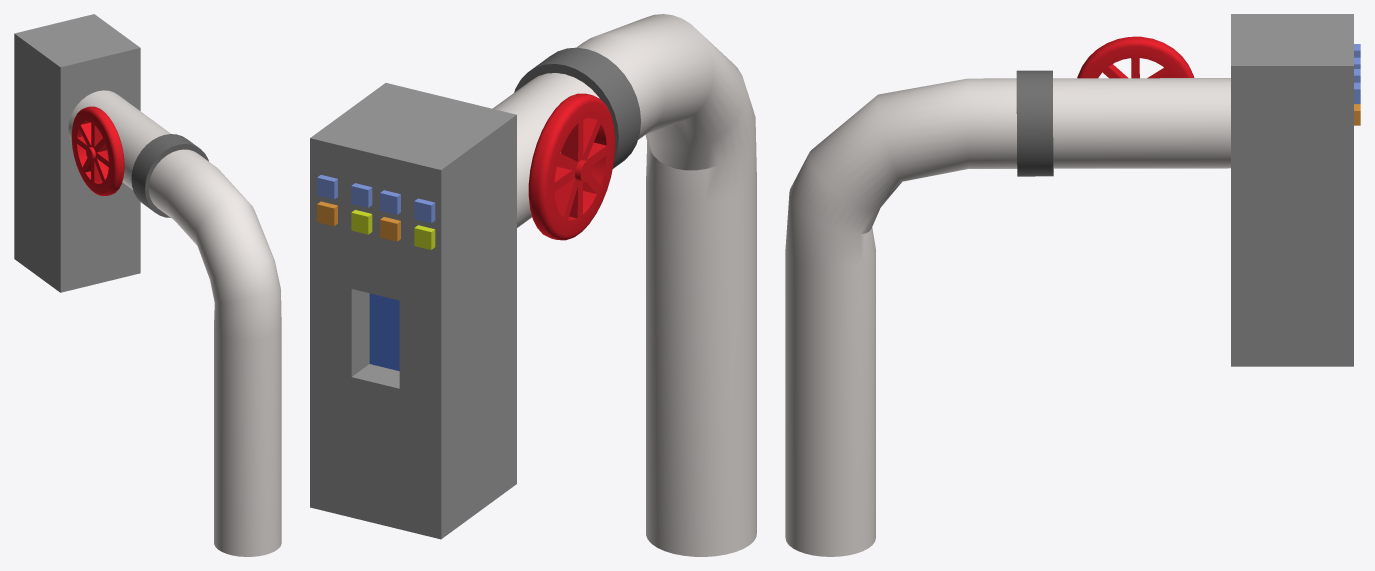
File: water_pump.fbx
3 views of the same model, side by side, from view 1: azimuth 30°, elevation 25°; view 2: azimuth 150°, elevation 25°; view 3: azimuth 270°, elevation 25° (orthographic). The views are drawn at different scales.
Parts seen in each view (by area): view 1: Cube; view 2: Cube; view 3: Cube.
Part boxes in pixels (x1,y1,x2,y2): Cube: [14, 14, 281, 556]; Cube: [310, 14, 756, 556]; Cube: [785, 14, 1360, 556].
Size of the model in its own units: 96.89 by 400 by 417.
